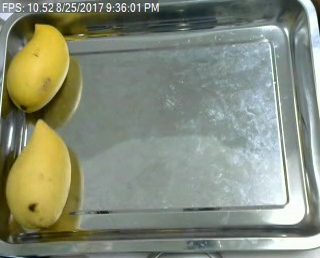Mango: (8, 115, 80, 227), (9, 16, 74, 114)
